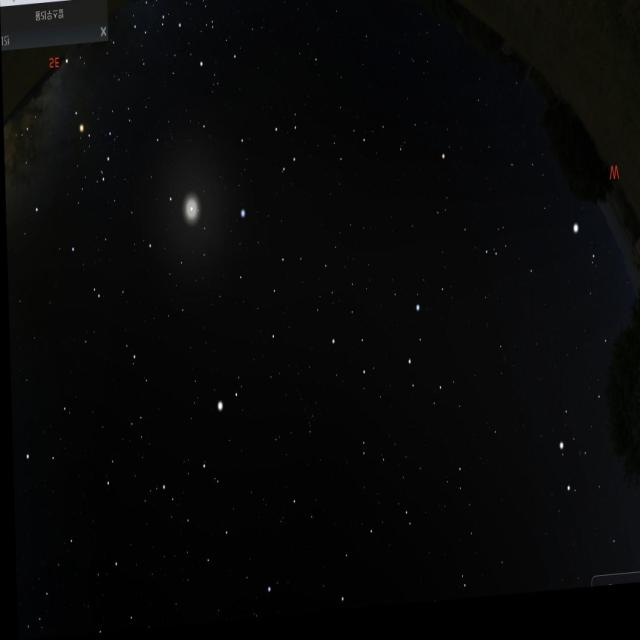bootes: (173, 396, 239, 577)
canis_minor: (572, 226, 601, 288)
gemini: (547, 370, 640, 508)
leo: (318, 296, 446, 436)
moon: (174, 172, 214, 247)
scorpius: (72, 96, 122, 205)
